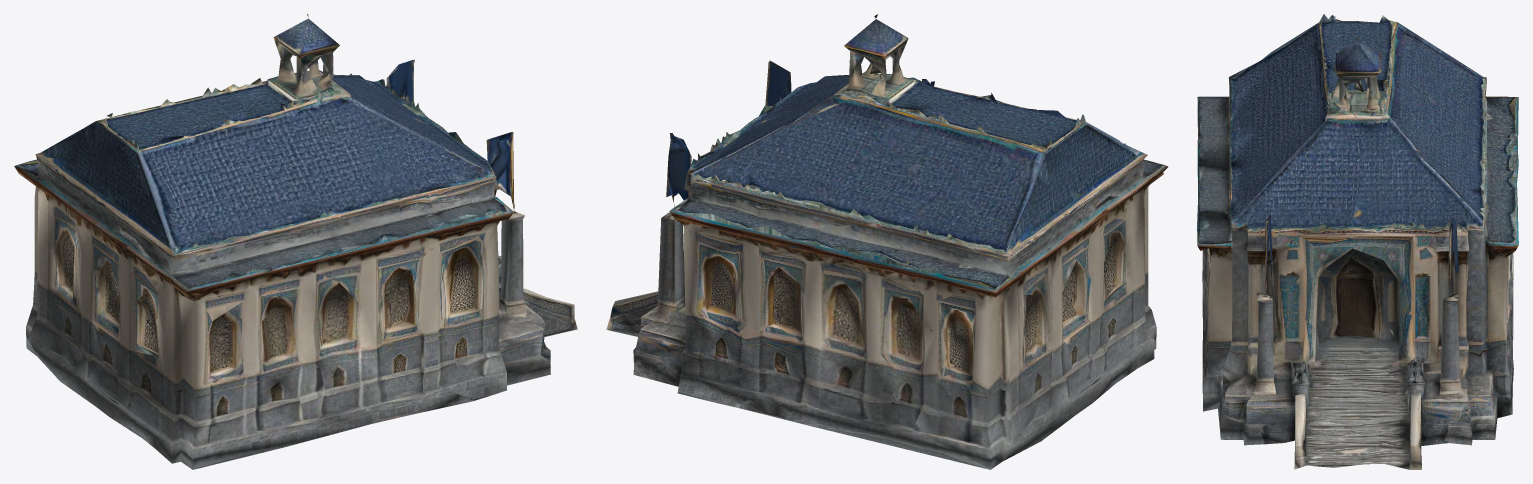
File: civic_hall_0.glb
3 renders of one model, left to right at view 1: azimuth 30°, elevation 25°; view 2: azimuth 150°, elevation 25°; view 3: azimuth 270°, elevation 25°, orthographic. The views are drawn at different scales.
Visible parts, largest first — view 1: tripo_node_cd58b98e-c6fd-408e-b47b-4feebae886b4; view 2: tripo_node_cd58b98e-c6fd-408e-b47b-4feebae886b4; view 3: tripo_node_cd58b98e-c6fd-408e-b47b-4feebae886b4.
Part boxes in pixels (x1,y1,x2,y2): tripo_node_cd58b98e-c6fd-408e-b47b-4feebae886b4: [14, 14, 577, 469]; tripo_node_cd58b98e-c6fd-408e-b47b-4feebae886b4: [606, 14, 1168, 469]; tripo_node_cd58b98e-c6fd-408e-b47b-4feebae886b4: [1197, 14, 1518, 469].
Size of the model in its own units: 0.9778 by 0.7342 by 0.6581.
1 material, 1 textured.
